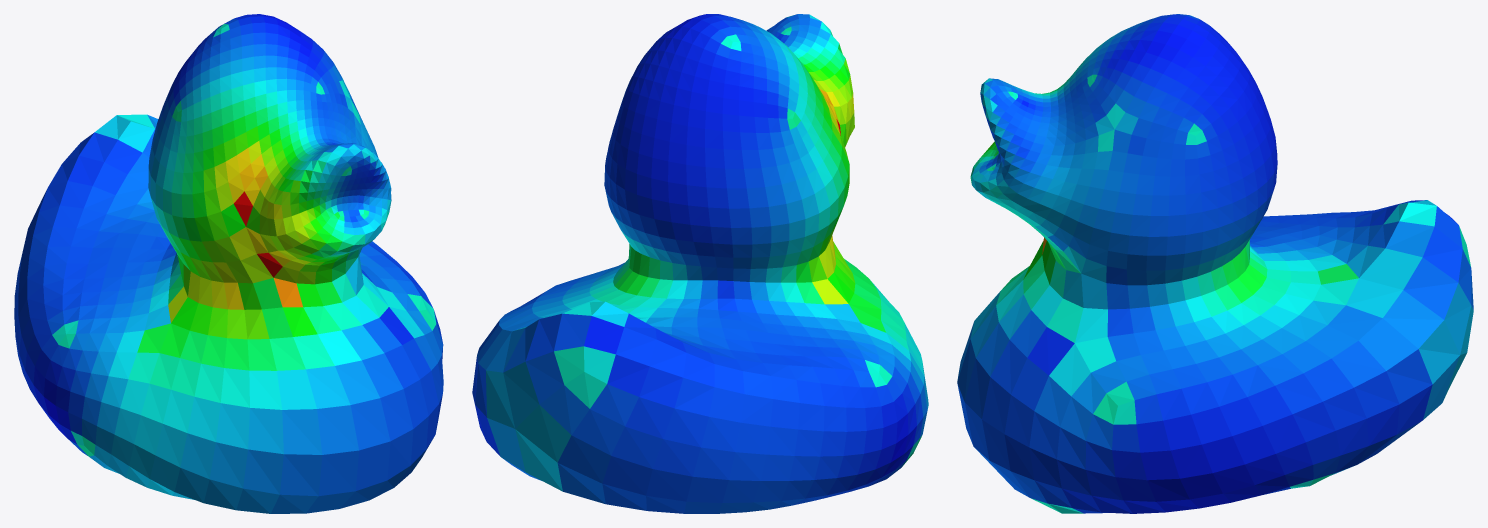
Rendered from duck_quad3_opt_quality.obj.
3 renders of one model, left to right at view 1: azimuth 30°, elevation 25°; view 2: azimuth 150°, elevation 25°; view 3: azimuth 270°, elevation 25°, orthographic. The views are drawn at different scales.
Bounding box in the file's own units: 69.48 × 78.19 × 81.61.
